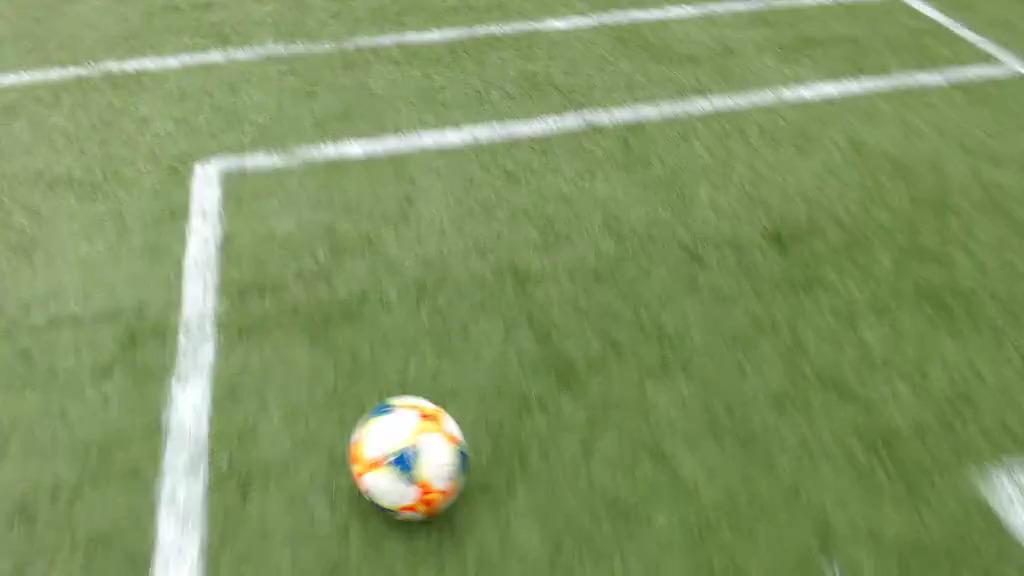ball: (349, 394, 469, 520)
